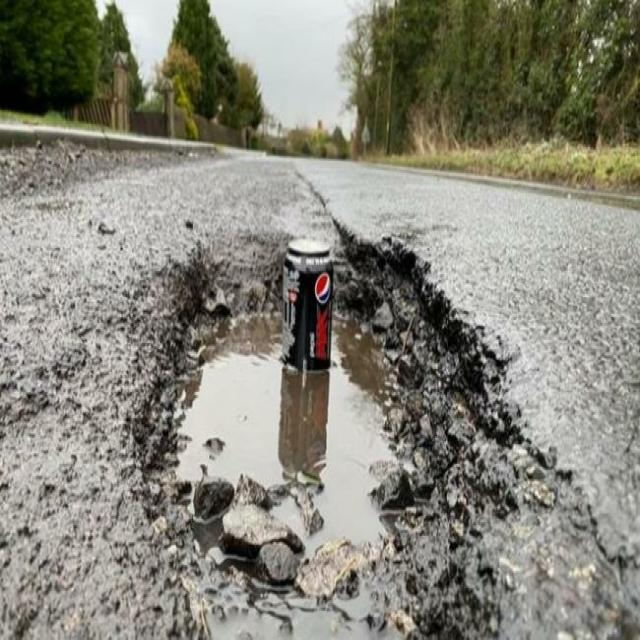Pothole: (121, 204, 558, 637)
